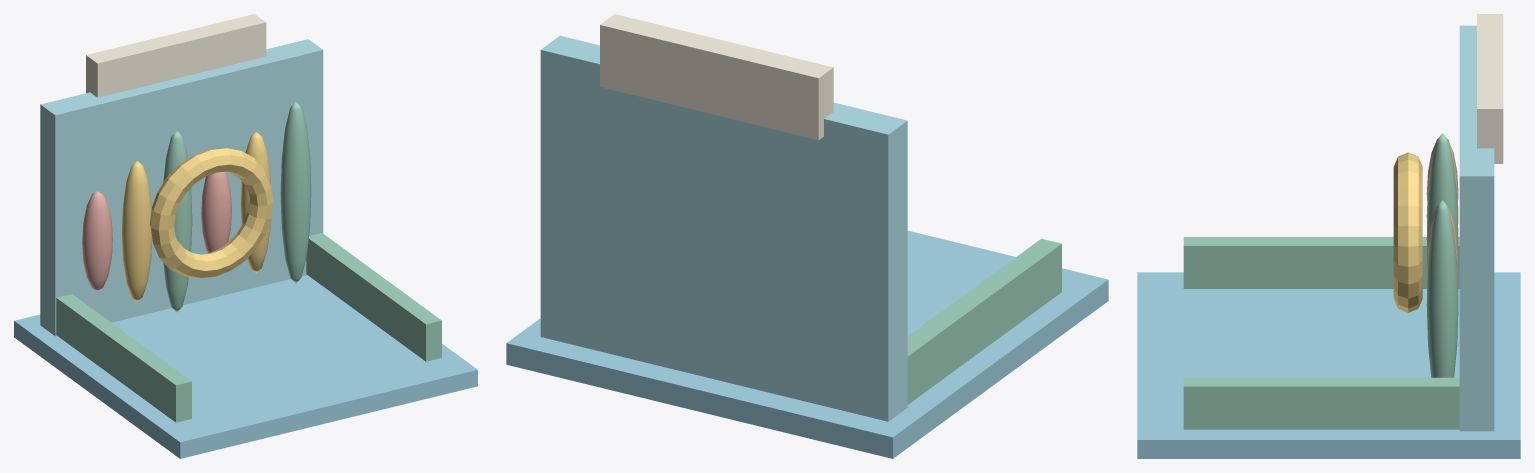
Rendered from fish-reef.glb.
3 renders of one model, left to right at view 1: azimuth 30°, elevation 25°; view 2: azimuth 150°, elevation 25°; view 3: azimuth 270°, elevation 25°, orthographic. The views are drawn at different scales.
Visible parts, largest first — view 1: reef backdrop.001, bowl docking mat, friendly coral.003, aquatic hoop, dock sign, friendly coral.001; view 2: reef backdrop.001, bowl docking mat, dock sign, friendly coral.003; view 3: bowl docking mat, friendly coral.003, reef backdrop.001, aquatic hoop, dock sign, friendly coral.001.
Part boxes in pixels (x1,y1,x2,y2): reef backdrop.001: (40, 39, 323, 336); bowl docking mat: (14, 275, 477, 458); friendly coral.003: (56, 101, 441, 422); aquatic hoop: (121, 132, 273, 301); dock sign: (86, 14, 266, 97); friendly coral.001: (82, 172, 231, 290); reef backdrop.001: (540, 35, 907, 421); bowl docking mat: (506, 230, 1108, 458); dock sign: (600, 14, 833, 140); friendly coral.003: (907, 238, 1061, 404); bowl docking mat: (1137, 272, 1520, 458); friendly coral.003: (1183, 133, 1459, 429); reef backdrop.001: (1459, 25, 1494, 431); aquatic hoop: (1393, 142, 1458, 312); dock sign: (1477, 14, 1503, 163); friendly coral.001: (1426, 140, 1458, 267).
Size of the model in its own units: 1.5 by 1.39 by 1.45.
